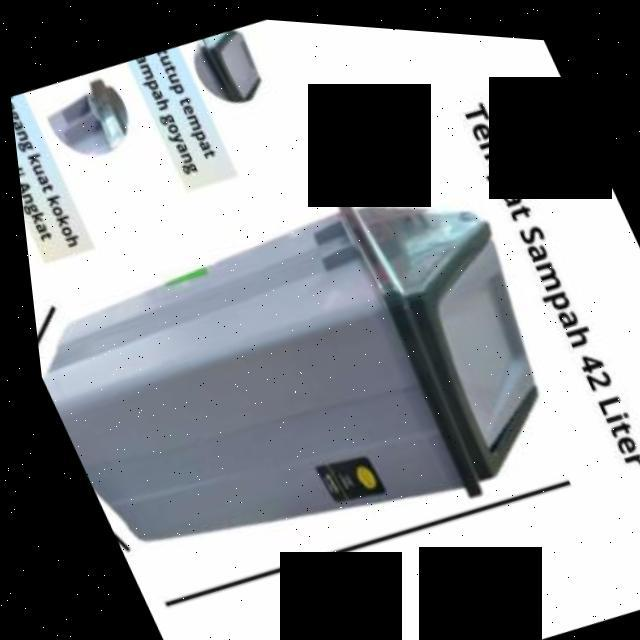bin: (10, 114, 615, 627)
